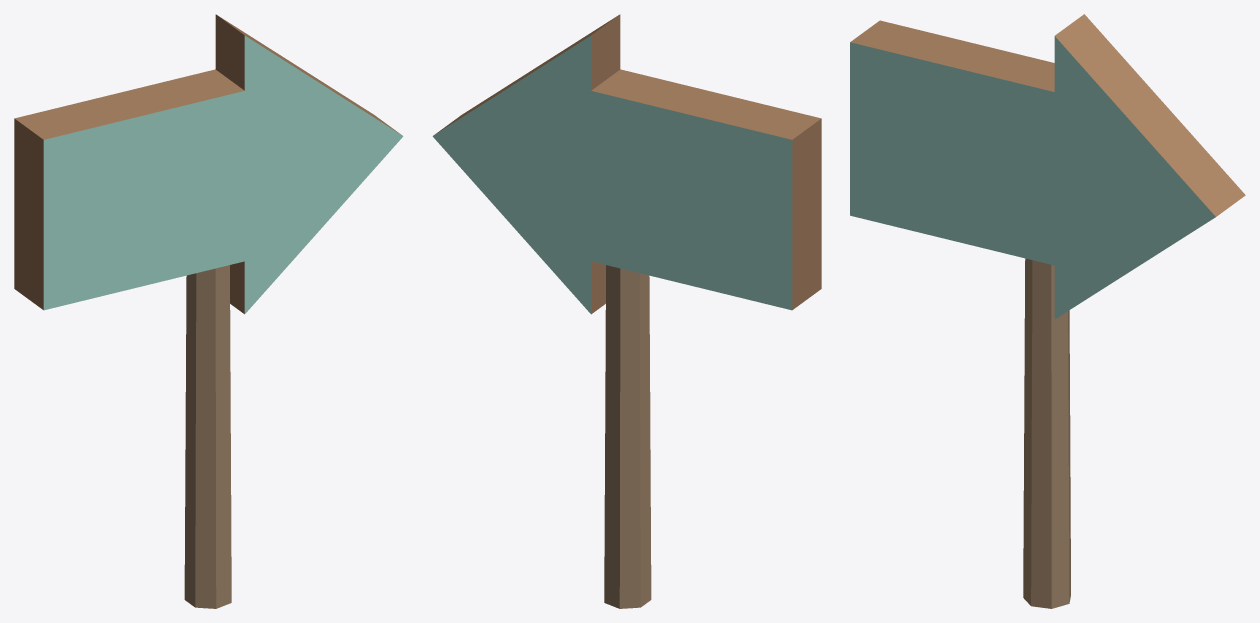
The model's file is arrow-sign.glb.
3 views of the same model, side by side, from view 1: azimuth 30°, elevation 25°; view 2: azimuth 150°, elevation 25°; view 3: azimuth 330°, elevation 25° (orthographic).
Parts seen in each view (by area): view 1: arrow-sign; view 2: arrow-sign; view 3: arrow-sign.
Part boxes in pixels (box(x1,y1,x2,y2)): arrow-sign: box(14, 14, 403, 608); arrow-sign: box(432, 14, 821, 608); arrow-sign: box(850, 14, 1245, 608).
Size of the model in its own units: 1.7 by 2.57 by 0.24.
